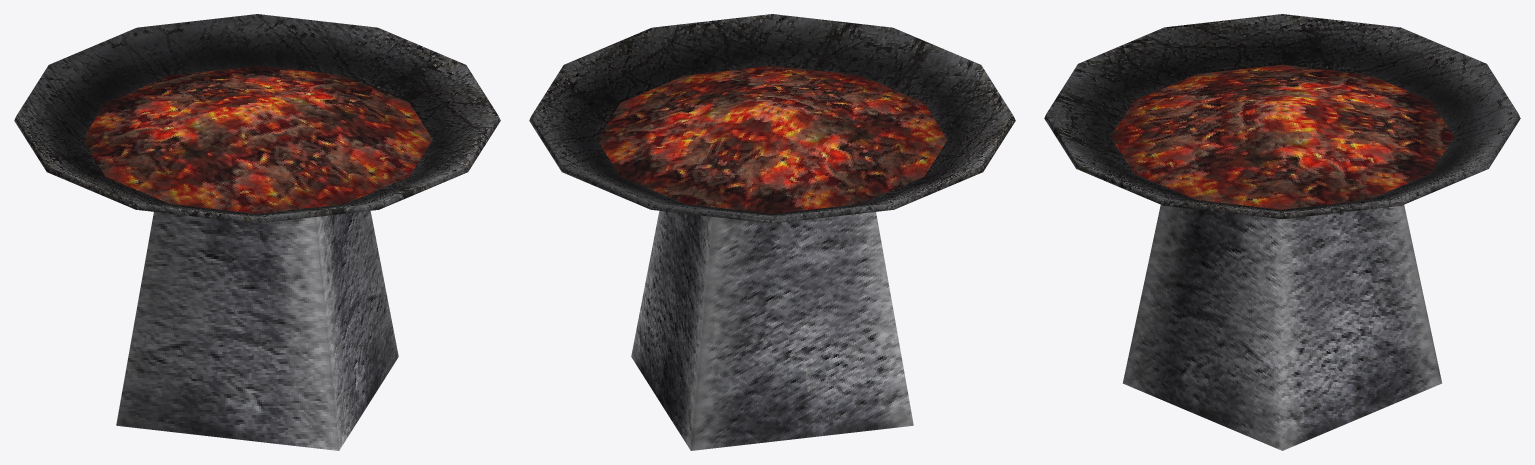
Rendered from brazier_stone.glb.
3 views of the same model, side by side, from view 1: azimuth 30°, elevation 25°; view 2: azimuth 150°, elevation 25°; view 3: azimuth 270°, elevation 25° (orthographic). The views are drawn at different scales.
Parts seen in each view (by area): view 1: brazier_stone; view 2: brazier_stone; view 3: brazier_stone.
Boxes of the visible parts, left/top/right/bottom form: brazier_stone: left=14, top=14, right=500, bottom=450; brazier_stone: left=529, top=14, right=1015, bottom=450; brazier_stone: left=1044, top=14, right=1520, bottom=450.
Bounding box in the file's own units: 2.11 × 1.35 × 2.11.
1 material, 1 textured.
